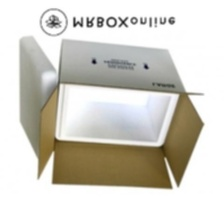book: (30, 36, 208, 196)
foam_box: (50, 81, 184, 151)
